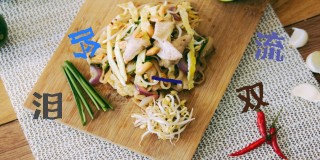一: (151, 75, 182, 83)
双: (236, 81, 269, 113)
吟: (68, 26, 100, 58)
泪: (32, 90, 63, 120)
流: (255, 30, 285, 62)
